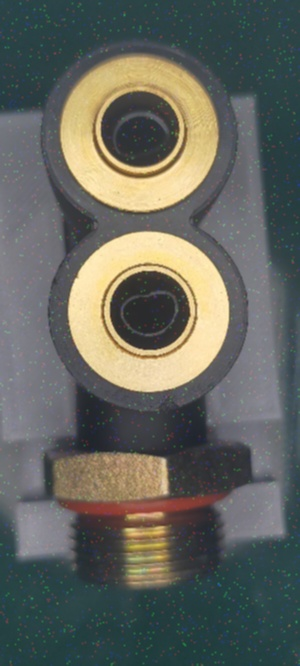bump: (148, 395, 189, 419)
off-centered: (110, 106, 176, 162), (113, 291, 184, 338)
